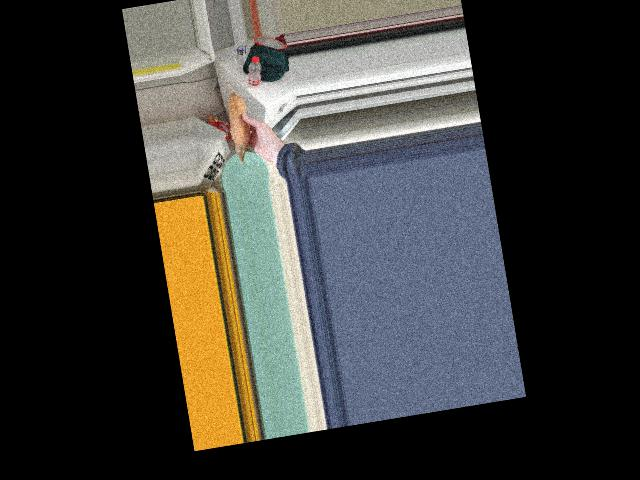sweet_potato: (226, 98, 256, 157)
